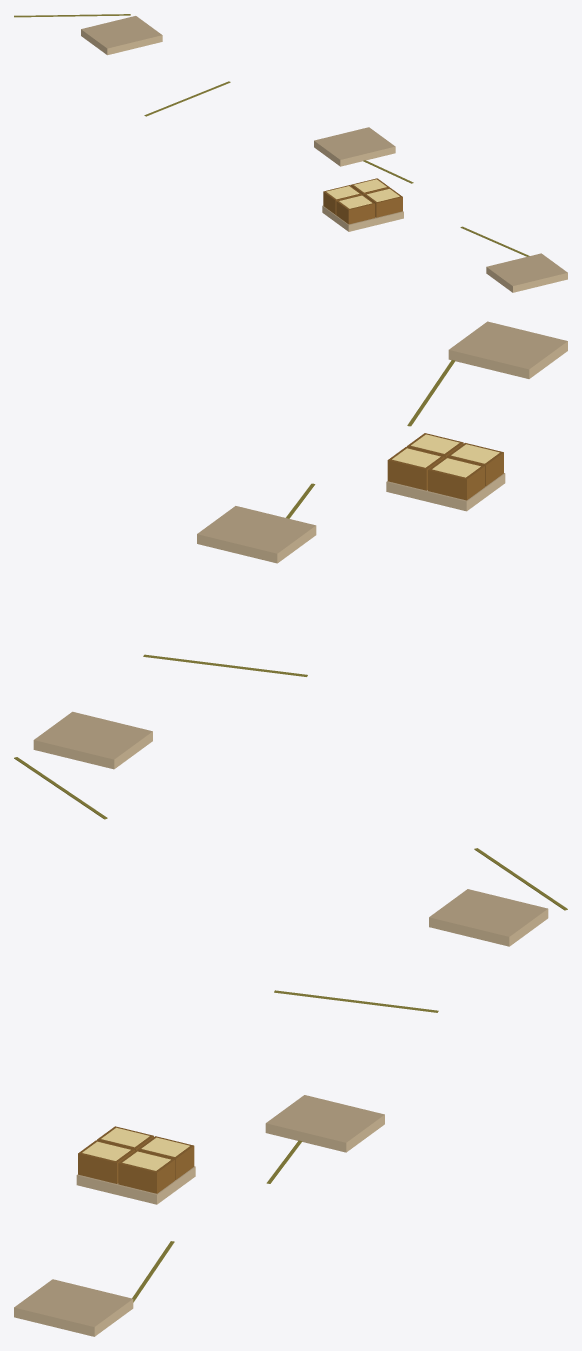
Rendered from SM_CargaViveres_Vacio_LOD0.fbx.
The picture shows the model from 3 angles, top to bottom: view 1: azimuth 30°, elevation 25°; view 2: azimuth 150°, elevation 25°; view 3: azimuth 330°, elevation 25°; orthographic projection. The views are drawn at different scales.
Parts seen in each view (by area): view 1: SM_carga_vagon_v17_LOD0; view 2: SM_carga_vagon_v17_LOD0; view 3: SM_carga_vagon_v17_LOD0.
Boxes of the visible parts, x1,y1,x2,y2 form: SM_carga_vagon_v17_LOD0: (14, 14, 567, 292); SM_carga_vagon_v17_LOD0: (14, 321, 567, 819); SM_carga_vagon_v17_LOD0: (14, 848, 567, 1336).
Size of the model in its own units: 3.26 by 0.45 by 15.39.
